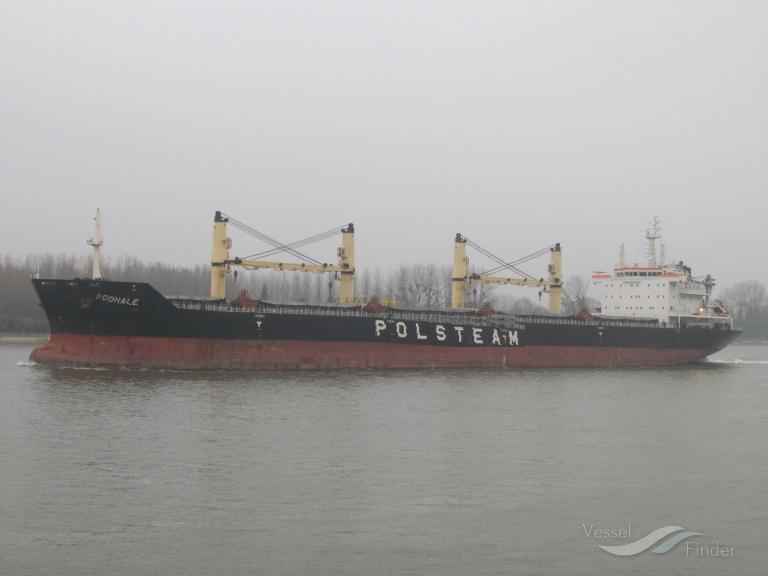OCR: (372, 314, 526, 347), (92, 284, 148, 309)
